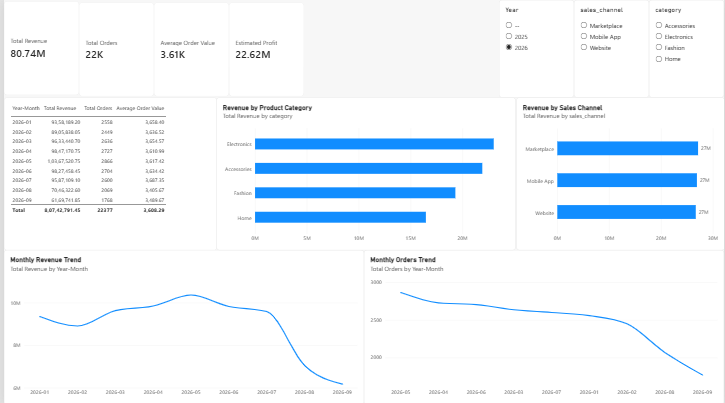

This screenshot's page, from the dashboard's own definition file:
{"tool":"powerbi","page":{"name":"Executive Overview","canvas":[1920,1080],"ordinal":0},"visuals":[{"type":"tableEx","fields":{"Values":["DateTable.Year-Month","DateTable.Total Revenue","DateTable.Total Orders","DateTable.Average Order Value"]},"box":[0,260,568.1,407.5],"z":0},{"type":"cardVisual","fields":{"Data":["DateTable.Total Revenue"]},"box":[0,2.1,200,250],"z":1},{"type":"cardVisual","fields":{"Data":["DateTable.Total Orders"]},"box":[200,5,200,250],"z":2},{"type":"cardVisual","fields":{"Data":["DateTable.Average Order Value"]},"box":[400,5,200,250],"z":3},{"type":"cardVisual","fields":{"Data":["orders_clean.Estimated Profit"]},"box":[600,5,200,250],"z":4},{"type":"lineChart","title":"Monthly Revenue Trend","fields":{"Category":["DateTable.Year-Month"],"Y":["DateTable.Total Revenue"]},"box":[0,667.5,960,412.5],"z":5},{"type":"lineChart","title":"Monthly Orders Trend","fields":{"Category":["DateTable.Year-Month"],"Y":["DateTable.Total Orders"]},"box":[960,667.5,960,412.5],"z":6},{"type":"clusteredBarChart","title":"Revenue by Sales Channel","fields":{"Category":["orders_clean.sales_channel"],"Y":["DateTable.Total Revenue"]},"box":[1365,260,555,407.5],"z":7},{"type":"clusteredBarChart","title":"Revenue by Product Category","fields":{"Category":["products_clean.category"],"Y":["DateTable.Total Revenue"]},"box":[567.5,260,797.5,407.5],"z":8},{"type":"listSlicer","fields":{"Values":["DateTable.Year"]},"box":[1320,0,200,260],"z":9},{"type":"listSlicer","fields":{"Values":["orders_clean.sales_channel"]},"box":[1520,0,200,260],"z":10},{"type":"listSlicer","fields":{"Values":["products_clean.category"]},"box":[1720,0,200,260],"z":11}]}

Visuals, with their boxes in screenshot pixels (x1, y1, x2, y2), scaled from the page's 1920x1080 canvas onto the 725x403 screenshot:
tableEx - DateTable.Year-Month x DateTable.Total Revenue: BBox(0, 97, 215, 249)
cardVisual - DateTable.Total Revenue: BBox(0, 1, 76, 94)
cardVisual - DateTable.Total Orders: BBox(76, 2, 151, 95)
cardVisual - DateTable.Average Order Value: BBox(151, 2, 227, 95)
cardVisual - orders_clean.Estimated Profit: BBox(227, 2, 302, 95)
"Monthly Revenue Trend" lineChart: BBox(0, 249, 362, 402)
"Monthly Orders Trend" lineChart: BBox(362, 249, 724, 402)
"Revenue by Sales Channel" clusteredBarChart: BBox(515, 97, 724, 249)
"Revenue by Product Category" clusteredBarChart: BBox(214, 97, 515, 249)
listSlicer - DateTable.Year: BBox(498, 0, 574, 97)
listSlicer - orders_clean.sales_channel: BBox(574, 0, 649, 97)
listSlicer - products_clean.category: BBox(649, 0, 724, 97)
